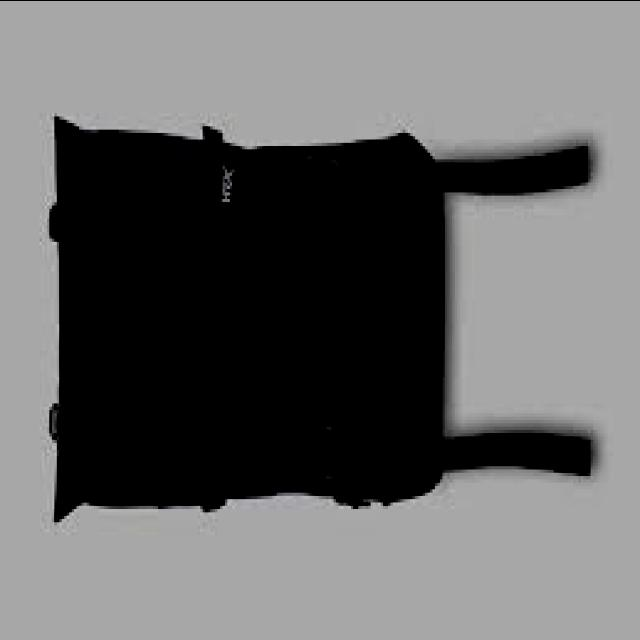backpack: (46, 117, 592, 526)
